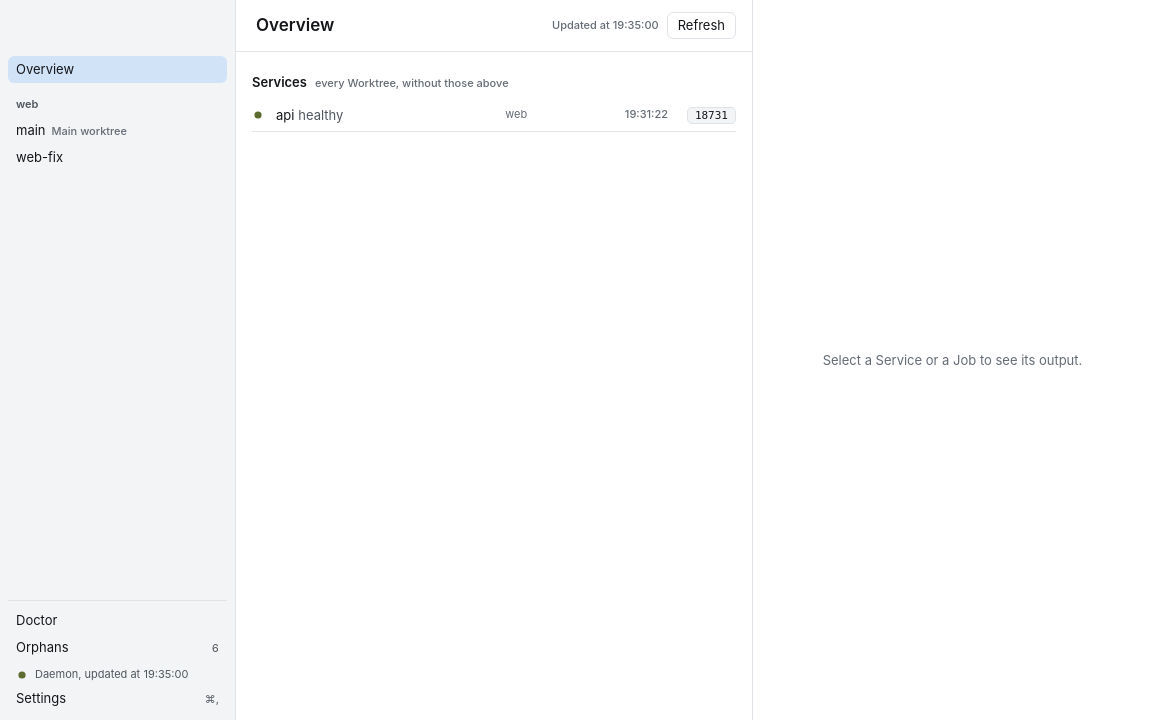
Test case: the Orphans screen › is an entry of the sidebar above Settings, and replaces the inspector
Step 1. Click the button "Orphans 6" → {"x": 118, "y": 648}, box left=8, top=634, right=227, bottom=661
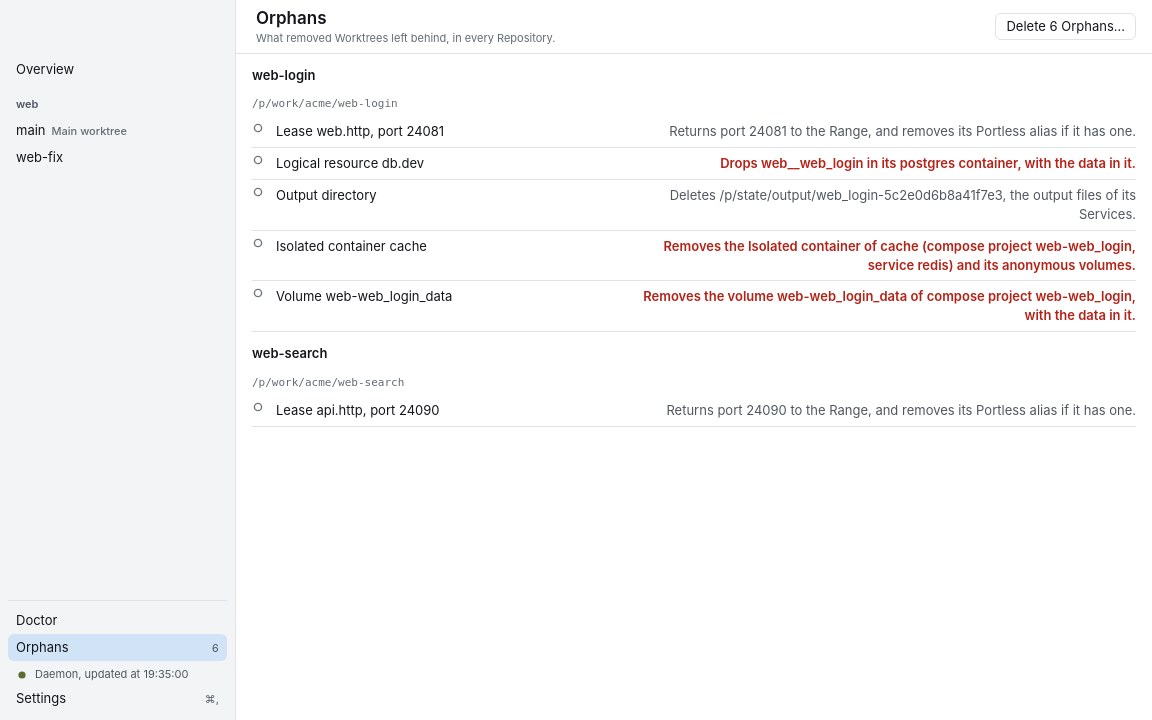
Now the heading "Orphans" is shown, box left=256, top=6, right=326, bottom=31
Now the element "Inspector" is gone
